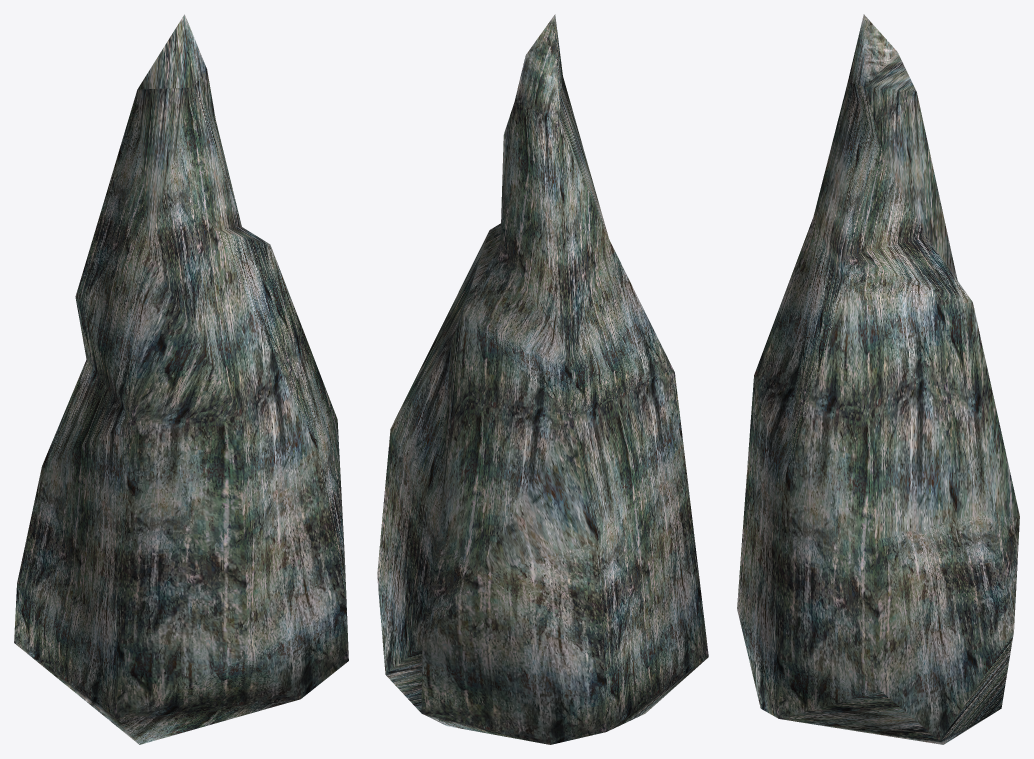
The model's file is rock_dath_desertcanyon_lg_l2.fbx.
3 renders of one model, left to right at view 1: azimuth 30°, elevation 25°; view 2: azimuth 150°, elevation 25°; view 3: azimuth 270°, elevation 25°, orthographic.
Visible parts, largest first — view 1: mesh_node; view 2: mesh_node; view 3: mesh_node.
Boxes of the visible parts, <box> form: mesh_node: <box>14,14,348,744</box>; mesh_node: <box>377,14,708,744</box>; mesh_node: <box>737,14,1019,744</box>.
Size of the model in its own units: 7.69 by 18.34 by 6.74.
